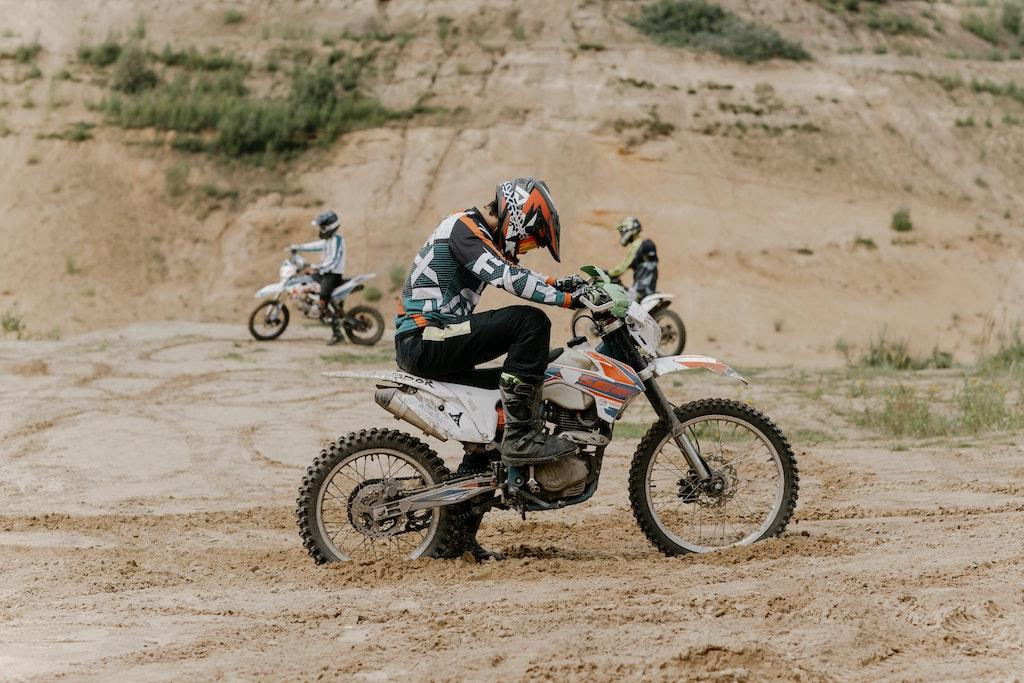helmet: (494, 176, 562, 271), (613, 215, 644, 248), (310, 210, 341, 240)
